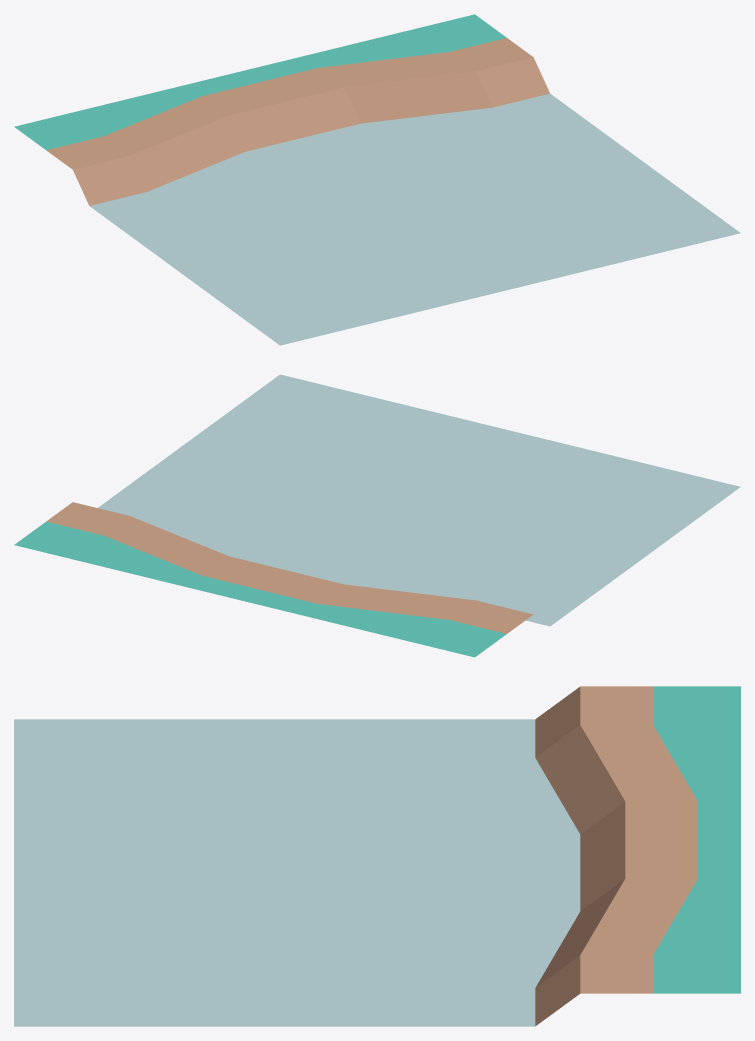
File: ground_riverSide.glb
The picture shows the model from 3 angles, top to bottom: view 1: azimuth 30°, elevation 25°; view 2: azimuth 150°, elevation 25°; view 3: azimuth 270°, elevation 25°; orthographic projection. The views are drawn at different scales.
Parts seen in each view (by area): view 1: ground_riverSide; view 2: ground_riverSide; view 3: ground_riverSide.
Part boxes in pixels (x1,y1,x2,y2): ground_riverSide: (14,14,740,345); ground_riverSide: (14,374,740,657); ground_riverSide: (14,686,740,1026).
Size of the model in its own units: 1 by 0.05 by 1.
